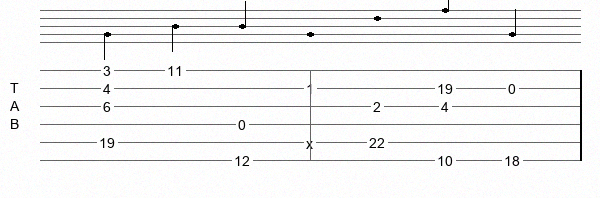0: (238, 117, 250, 131), (508, 81, 520, 95)
1: (306, 81, 318, 95)
10: (437, 153, 457, 167)
11: (167, 63, 187, 77)
12: (234, 153, 254, 167)
18: (504, 153, 524, 167)
19: (99, 135, 119, 149), (437, 81, 457, 95)
2: (373, 99, 385, 113)
22: (369, 135, 389, 149)
3: (103, 63, 115, 77)
4: (103, 81, 115, 95), (441, 99, 453, 113)
6: (103, 99, 115, 113)
x: (306, 136, 317, 148)
